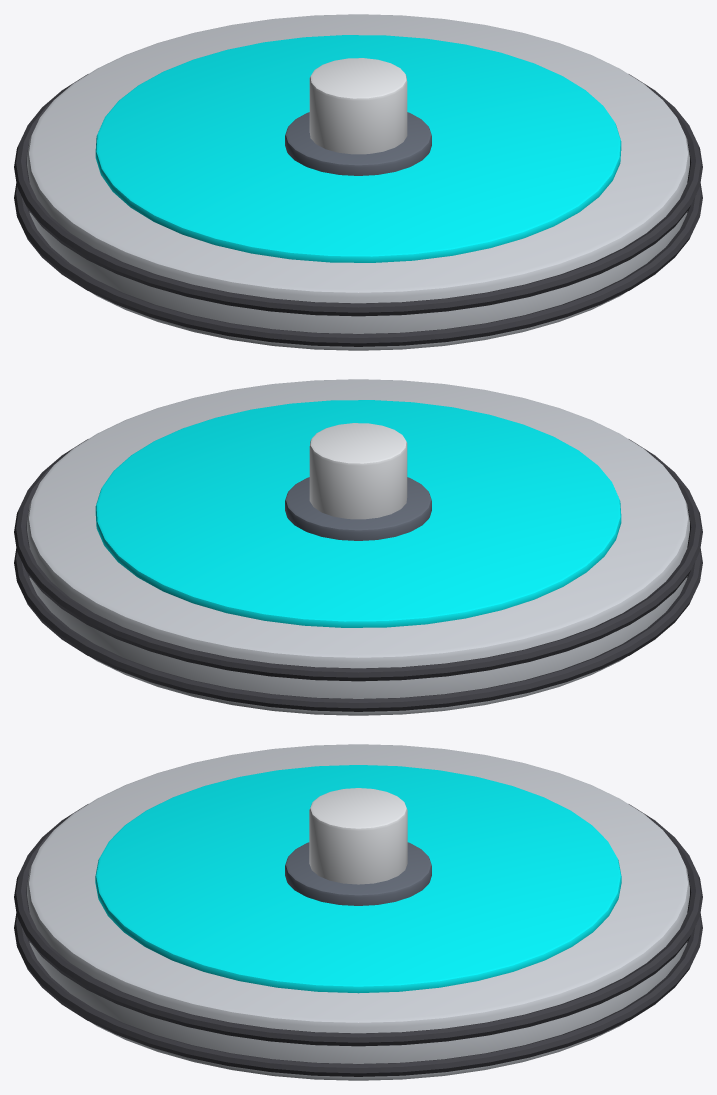
Rendered from carnot_piston.glb.
3 views of the same model, one above another, from view 1: azimuth 30°, elevation 25°; view 2: azimuth 150°, elevation 25°; view 3: azimuth 270°, elevation 25° (orthographic).
Parts seen in each view (by area): view 1: Cylinder; view 2: Cylinder; view 3: Cylinder.
Boxes of the visible parts, box(x1,y1,x2,y2) form: Cylinder: box(14, 14, 702, 350); Cylinder: box(14, 379, 702, 715); Cylinder: box(14, 744, 702, 1080).
Bounding box in the file's own units: 4.49 × 0.975 × 4.49.
